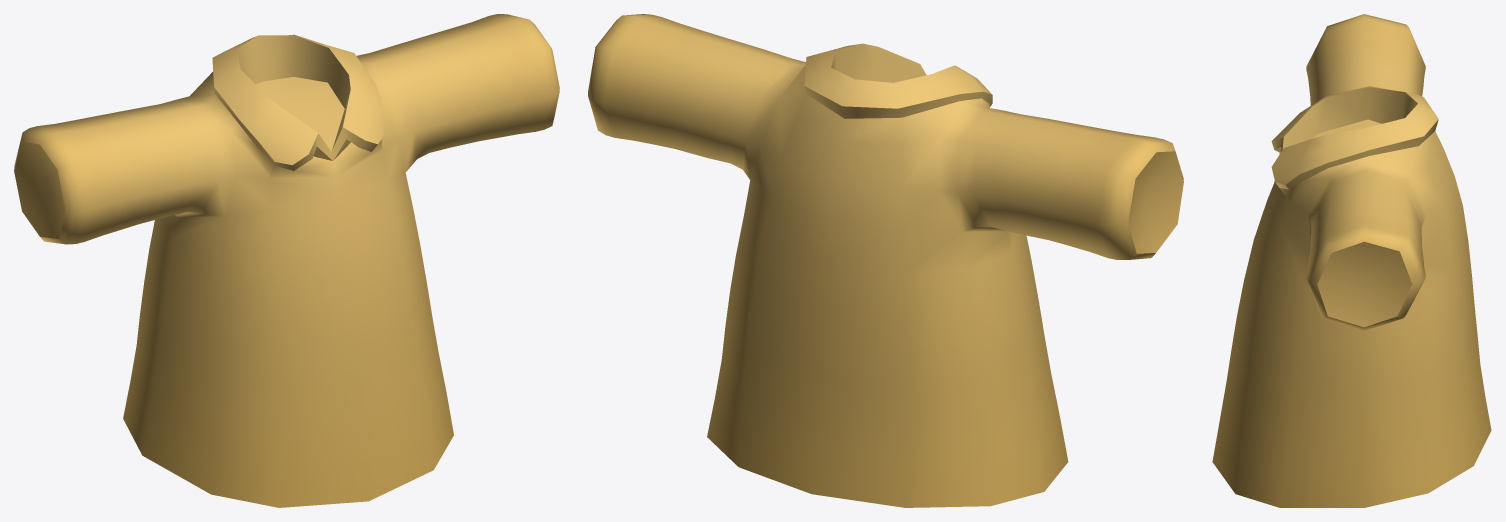
The model's file is Top_45.fbx.
The picture shows the model from 3 angles, left to right: view 1: azimuth 30°, elevation 25°; view 2: azimuth 150°, elevation 25°; view 3: azimuth 270°, elevation 25°; orthographic projection. The views are drawn at different scales.
Visible parts, largest first — view 1: Top_45; view 2: Top_45; view 3: Top_45.
Boxes of the visible parts, x1,y1,x2,y2 form: Top_45: [14, 14, 559, 507]; Top_45: [588, 14, 1183, 507]; Top_45: [1212, 14, 1491, 507].
Bounding box in the file's own units: 80.8 × 60.1 × 42.41.
